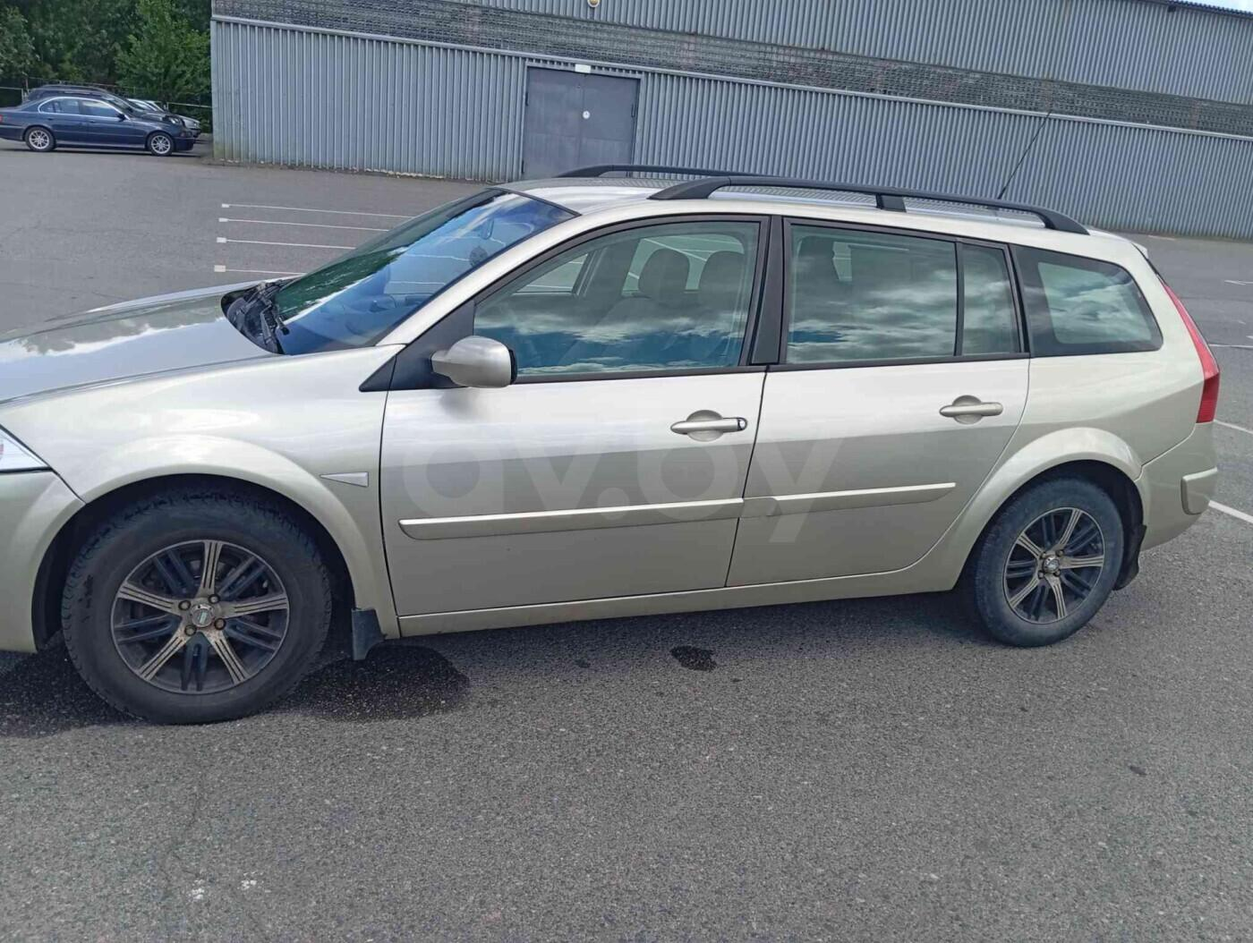Megane_2005-2009: (0, 166, 1216, 726)
